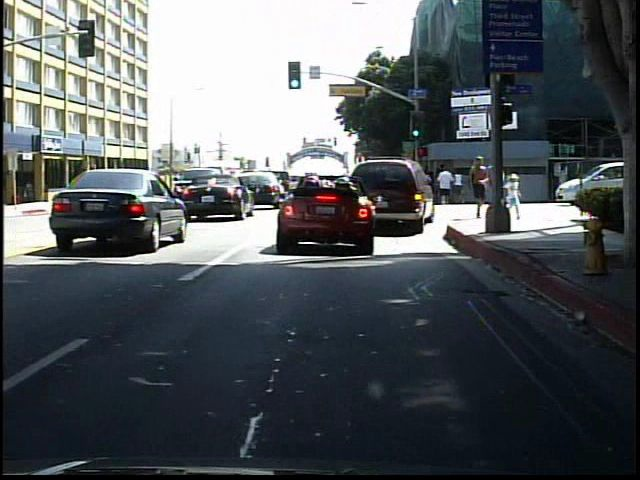person: (467, 155, 491, 224), (503, 173, 522, 217), (115, 174, 134, 204)
